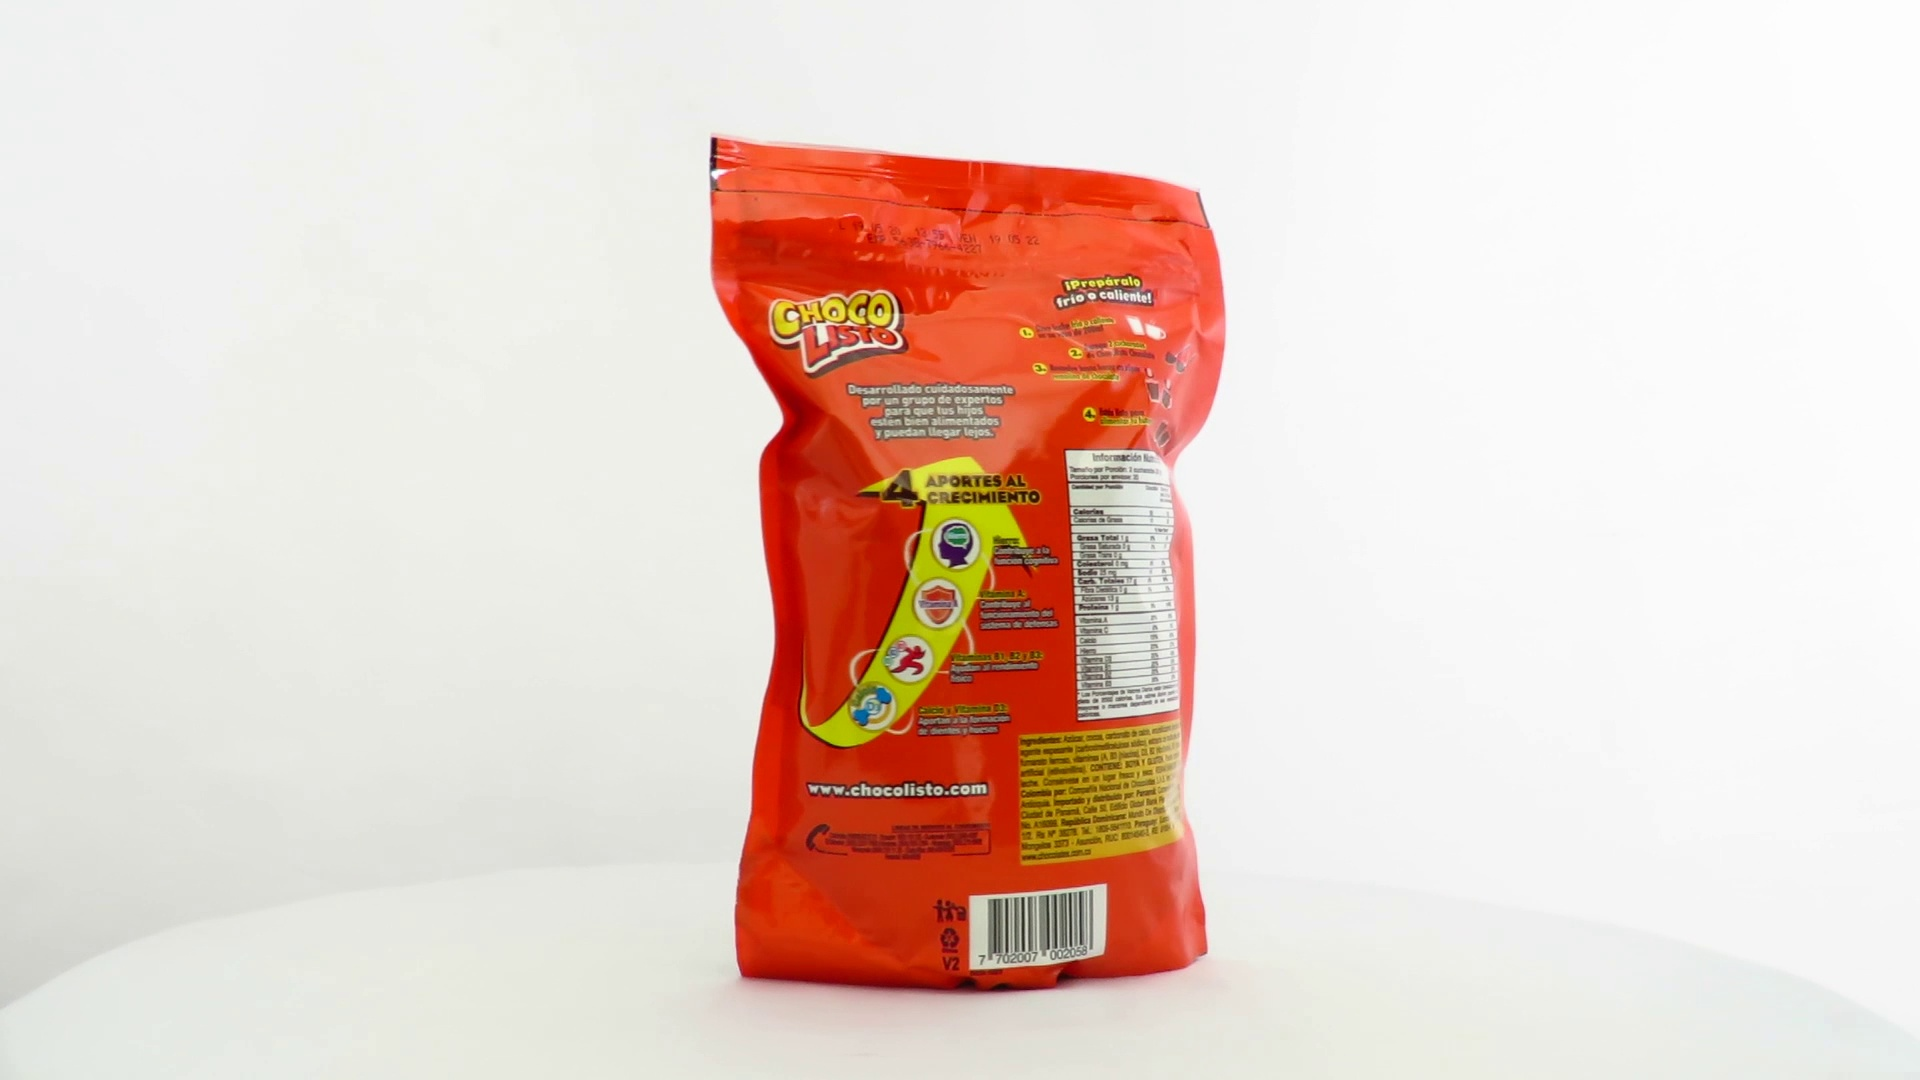COL0170103DYP40000: (704, 132, 1232, 1001)
